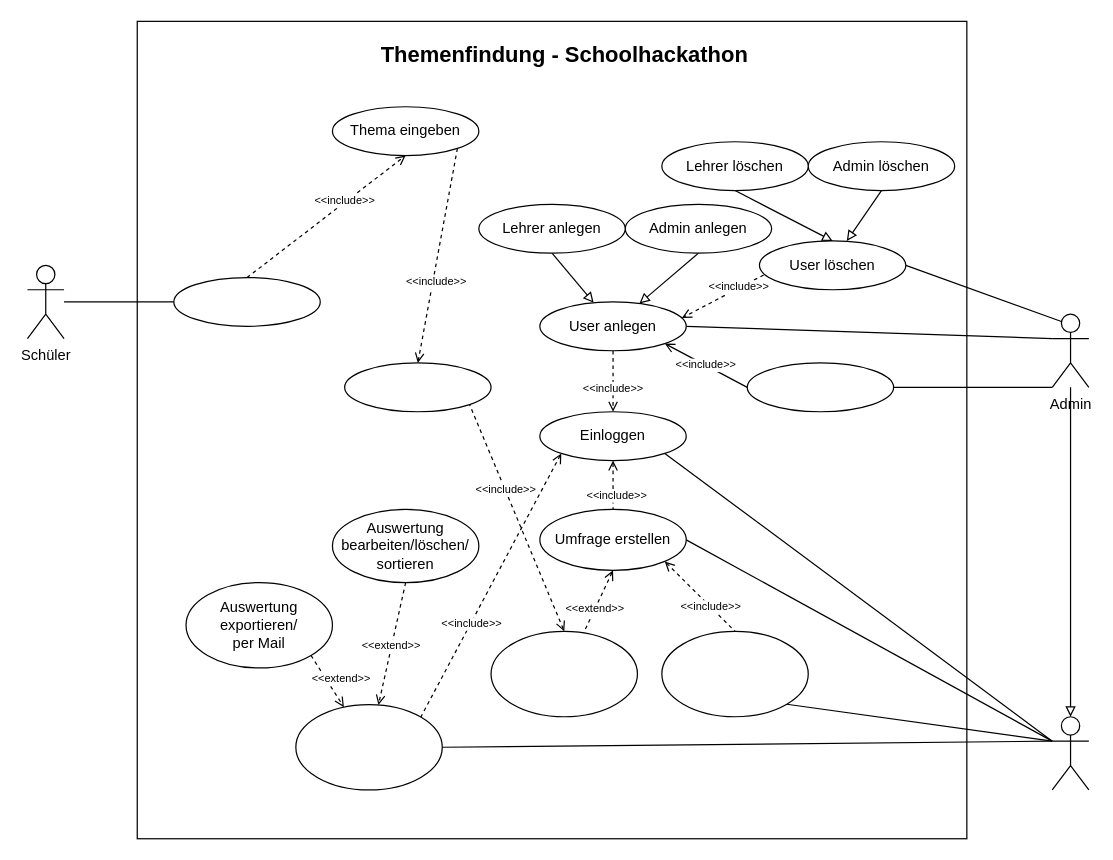
The diagram is 1113 pixels wide and 860 high, and some of its shapes have lost their labels. The centre of each missing label's shape, as x and y in pixels:
"Auswertung anfordern" goes at point (368, 746).
"Codes/Link Generieren" goes at point (563, 673).
"Lehrer" goes at point (1070, 753).
"Mit Code verfizieren" goes at point (417, 387).
"Thema abschicken" goes at point (246, 301).
"Umfrage löschen" goes at point (734, 673).
"User bearbeiten" goes at point (820, 387).
